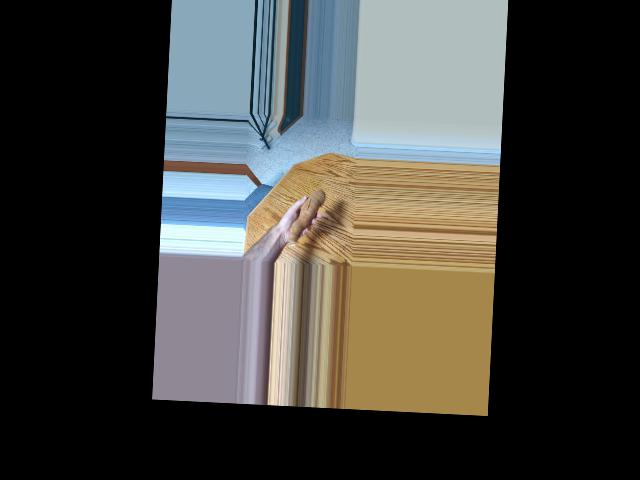sweet_potato: (283, 185, 326, 248)
